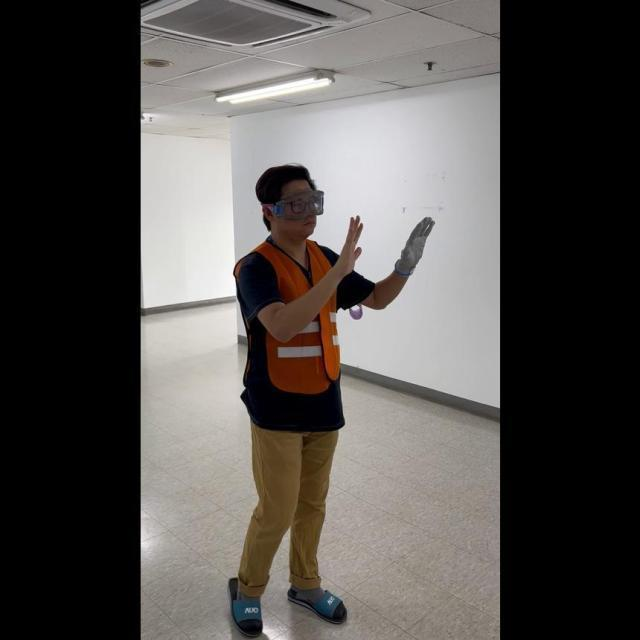bare_hand: (336, 210, 363, 273)
gloved_hand: (391, 211, 435, 277)
